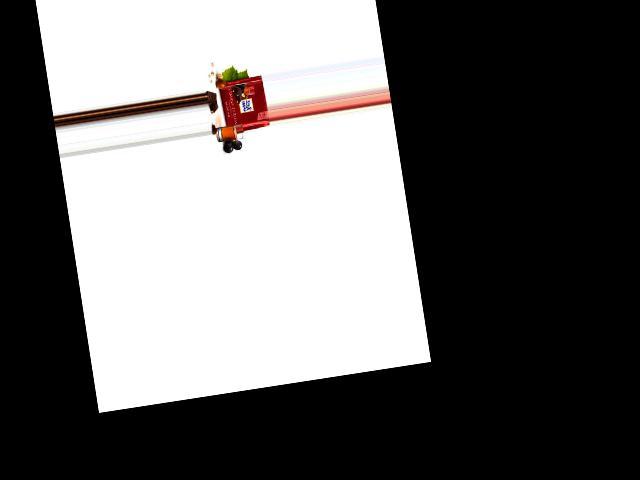chocolate: (218, 74, 269, 132)
